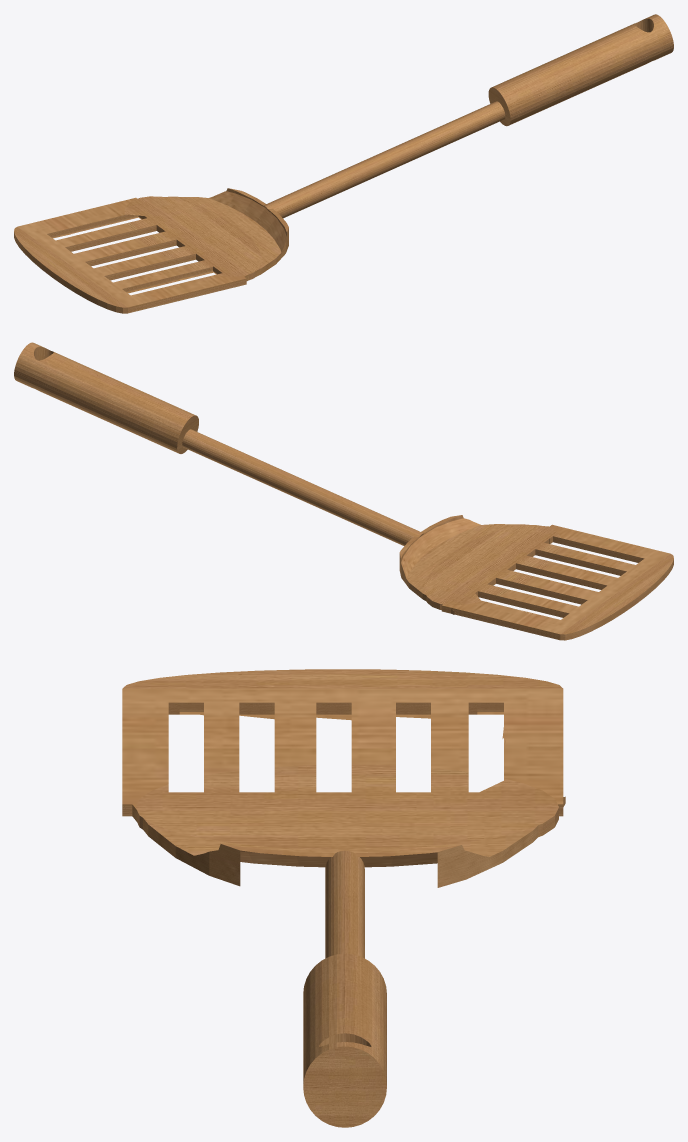
Rendered from espatula2.obj.
3 renders of one model, top to bottom at view 1: azimuth 30°, elevation 25°; view 2: azimuth 150°, elevation 25°; view 3: azimuth 270°, elevation 25°, orthographic. The views are drawn at different scales.
Parts seen in each view (by area): view 1: espatula1; view 2: espatula1; view 3: espatula1.
Part boxes in pixels (x1=…): espatula1: x1=14, y1=14, x2=673, y2=313; espatula1: x1=14, y1=342, x2=673, y2=640; espatula1: x1=122, y1=669, x2=565, y2=1127.
Size of the model in its own units: 6.42 by 1.13 by 2.01.
